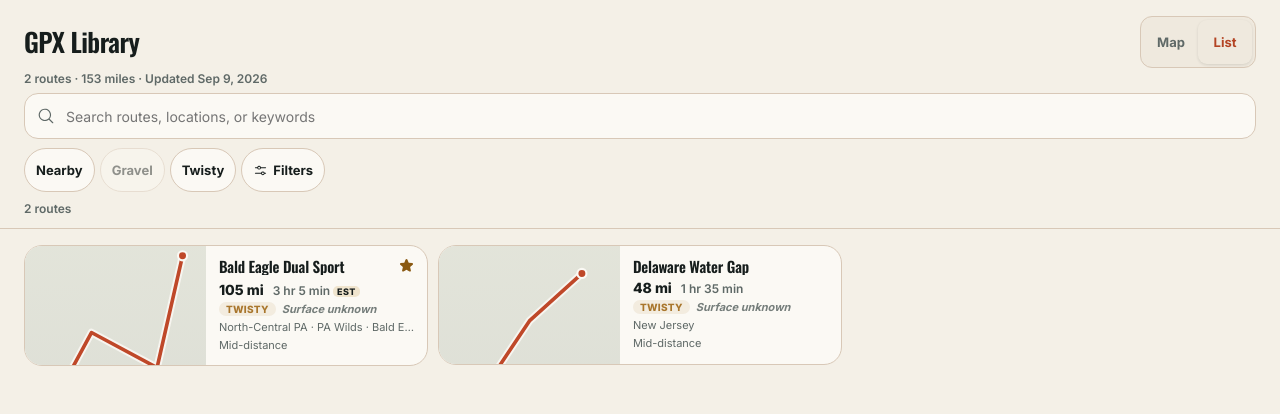
Scenario: GPX Library discovery › explains an empty result rather than showing a blank deck
This screenshot has width=1280, height=414.
Type "nothing matches this" into the search field at (654, 116), box [64,94,1243,138]
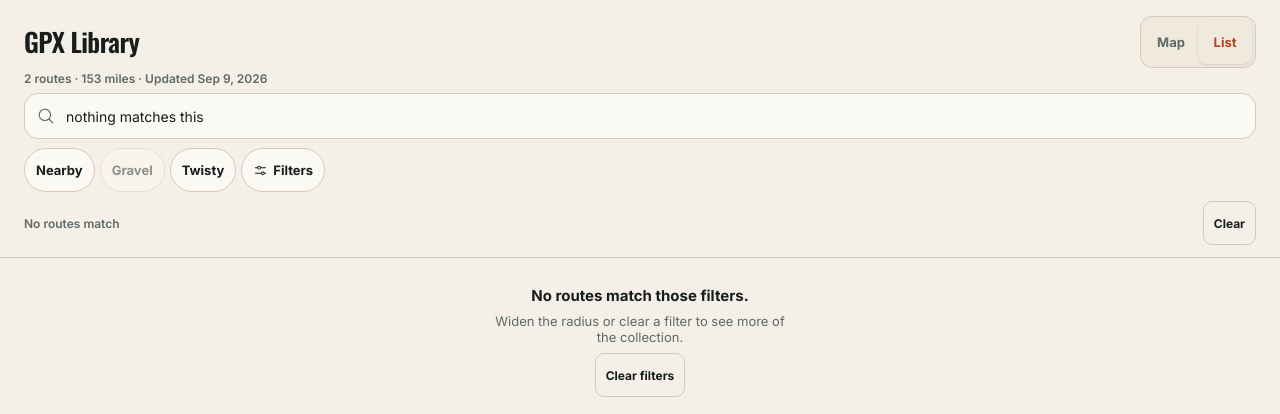
Expected: the text "No routes match those filters." is shown, [531,286,749,305]
Expected: the button "Clear filters" is shown, [595,353,685,397]
